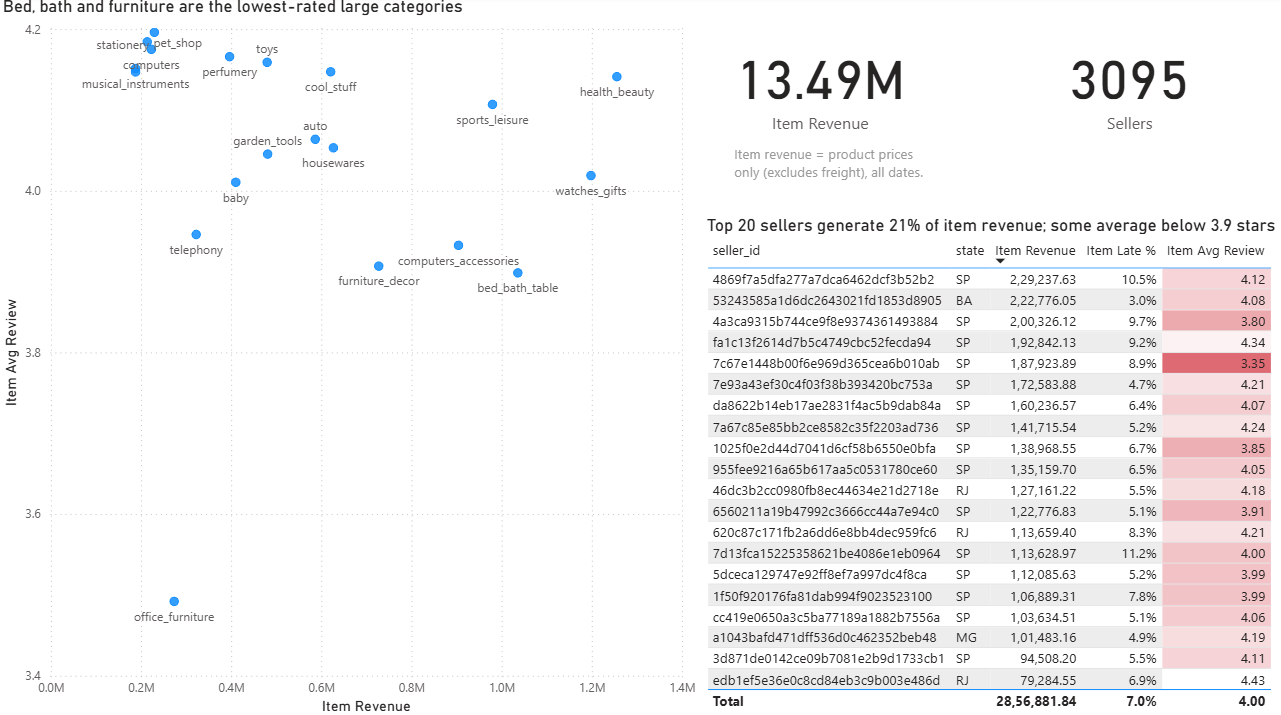

This screenshot's page, from the dashboard's own definition file:
{"tool":"powerbi","page":{"name":"Sellers and products","canvas":[1280,720],"ordinal":3},"visuals":[{"type":"card","fields":{"Values":["_Measures.Item Revenue"]},"box":[727.7,32.3,181.6,110.7],"z":0},{"type":"card","fields":{"Values":["_Measures.Sellers"]},"box":[1037.5,32.3,177.9,110.7],"z":1000},{"type":"tableEx","title":"Top 20 sellers generate 21% of item revenue; some average below 3.9 stars","fields":{"Values":["dim_sellers.seller_id","dim_sellers.state","_Measures.Item Revenue","_Measures.Item Late %","_Measures.Item Avg Review"]},"box":[699.8,218.2,580.4,502.2],"z":2000},{"type":"scatterChart","title":"Bed, bath and furniture are the lowest-rated large categories","fields":{"Category":["dim_products.category"],"X":["_Measures.Item Revenue"],"Y":["_Measures.Item Avg Review"]},"box":[0,0,699.8,720.4],"z":3000},{"type":"textbox","box":[727.7,143.1,215.2,56],"z":4000}]}

Visuals, with their boxes in screenshot pixels (x1, y1, x2, y2), scaled from the page's 1280x720 canvas onto the 1281x715 screenshot:
card - _Measures.Item Revenue: 728,32,910,142
card - _Measures.Sellers: 1038,32,1216,142
"Top 20 sellers generate 21% of item revenue; some average below 3.9 stars" tableEx: 700,217,1280,714
"Bed, bath and furniture are the lowest-rated large categories" scatterChart: 0,0,700,714
textbox: 728,142,944,198
